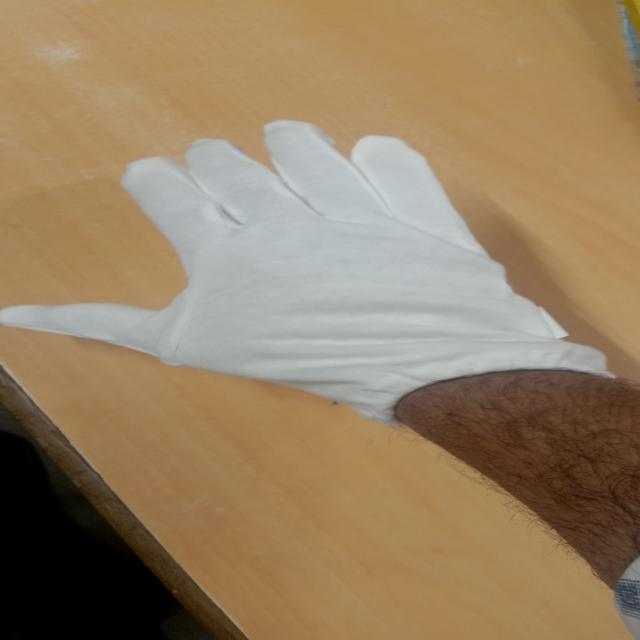glove: (2, 116, 639, 416)
